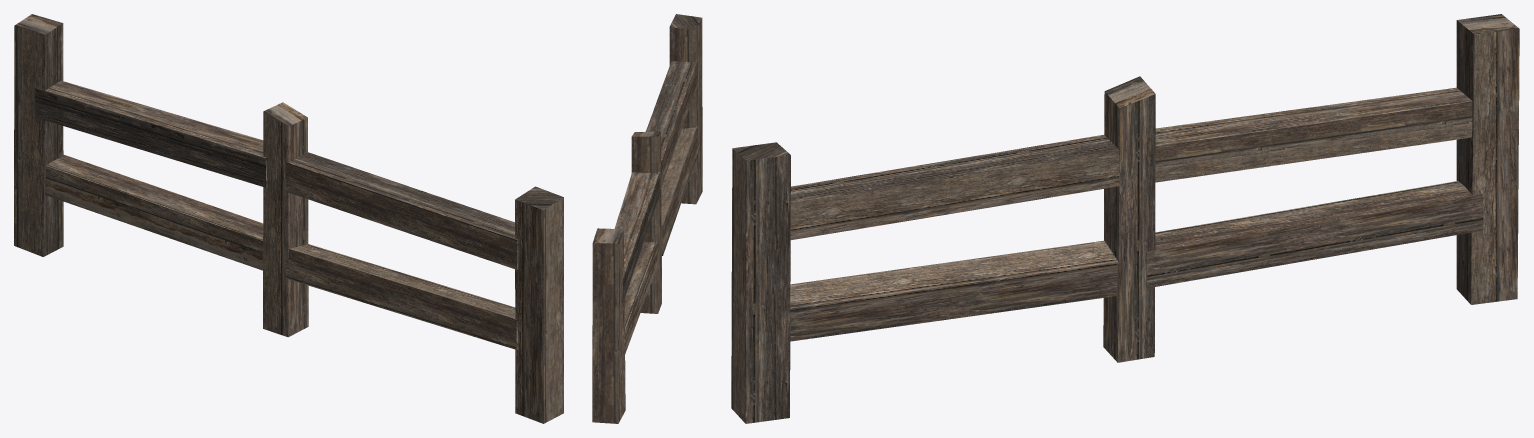
The model's file is fence.gltf.
The picture shows the model from 3 angles, left to right: view 1: azimuth 30°, elevation 25°; view 2: azimuth 150°, elevation 25°; view 3: azimuth 270°, elevation 25°; orthographic projection. The views are drawn at different scales.
Bounding box in the file's own units: 1.7 × 1.51 × 3.97.
1 material, 1 textured.
